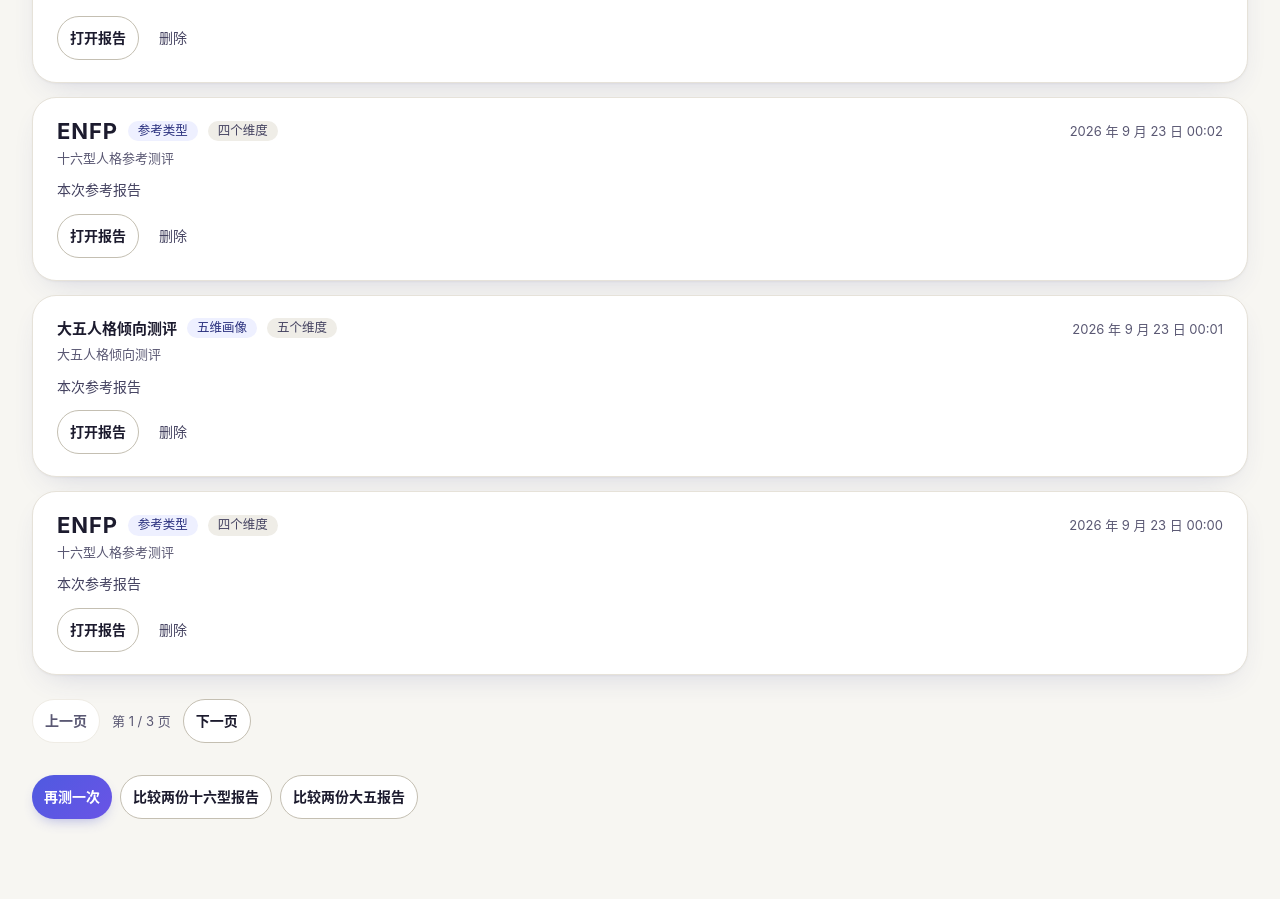
Scenario: 历史报告分页 › 51 份报告可到第三页，总数与本页种类计数不混用
The width and height of the screenshot is (1280, 899).
(page scrolled)
Click the button "下一页": x=217, y=721 [183,699,251,743]
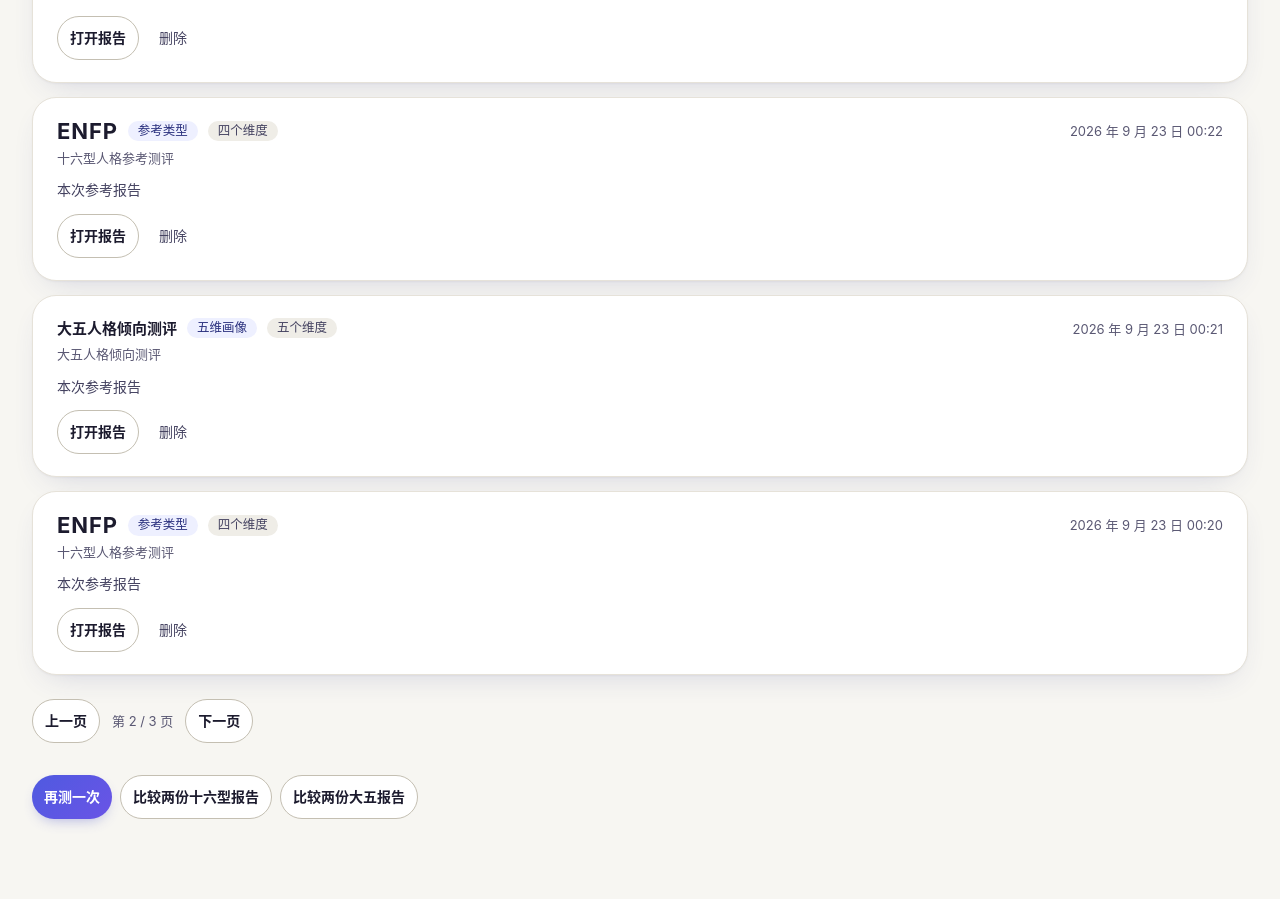
Click the button "下一页": x=219, y=721 [185,699,253,743]
(page scrolled)
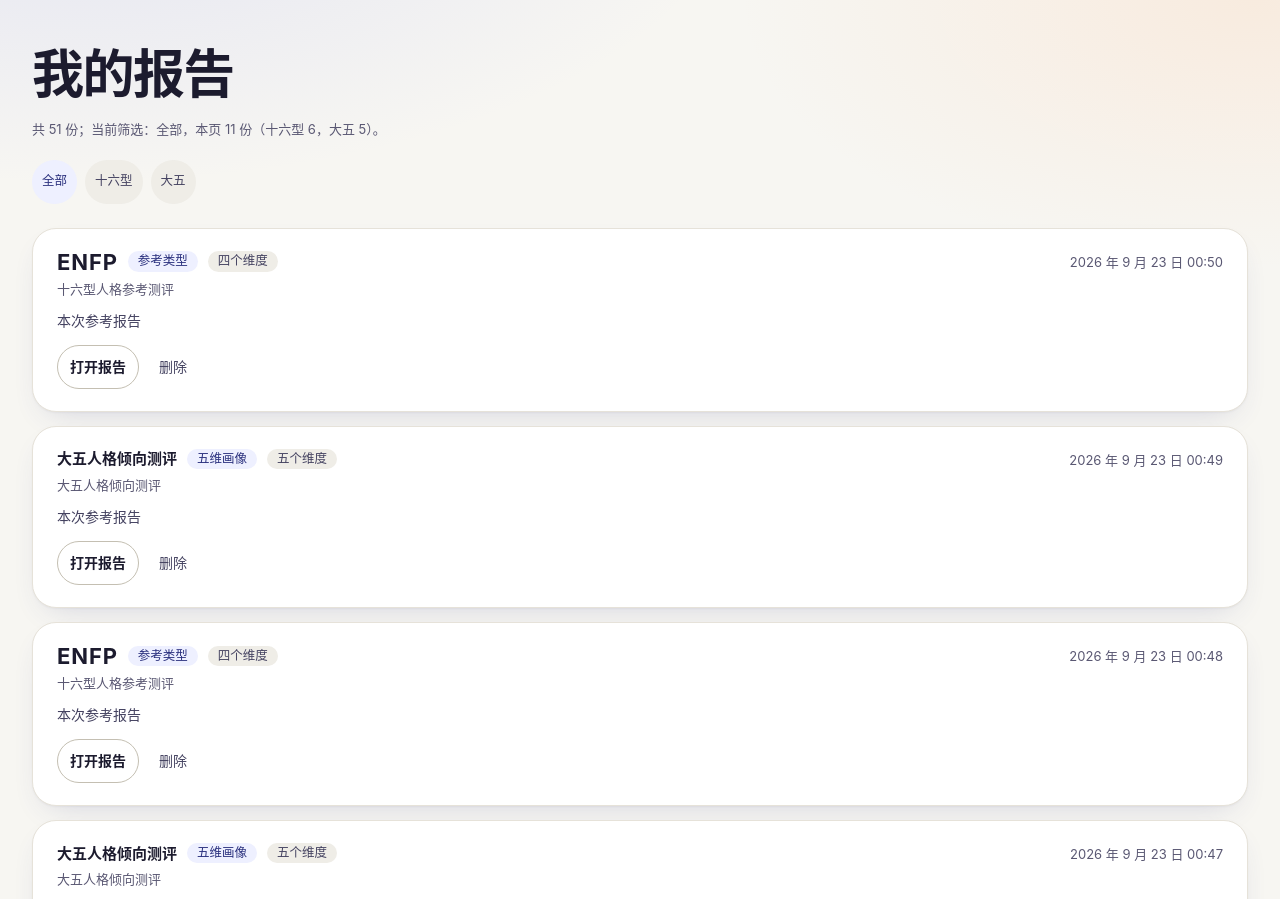
Expected: the number of list items is 11
Expected: the text "共 51 份；当前筛选：全部，本页 11 份（十六型 6，大五 5）。" is shown, [32,120,386,136]
